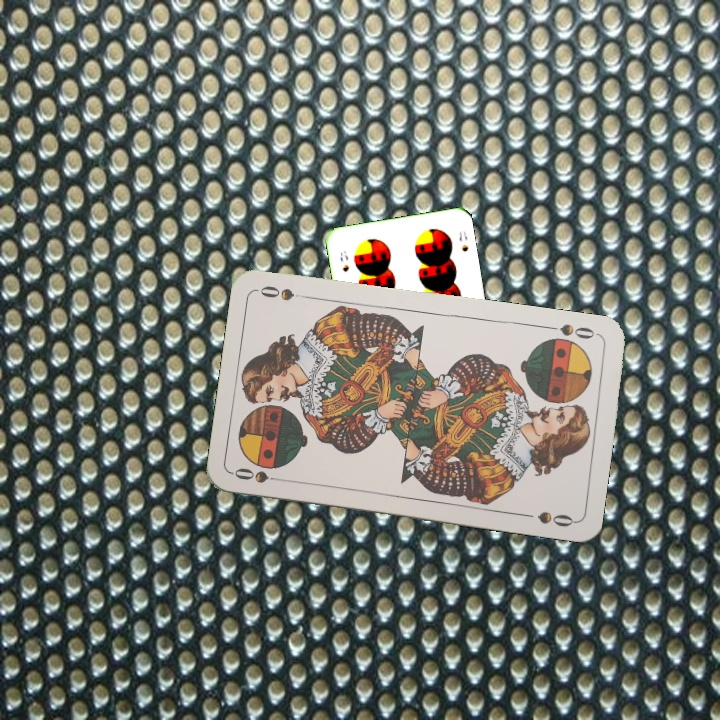S8: (336, 247, 352, 274)
SO: (230, 463, 289, 486), (543, 320, 602, 342)
